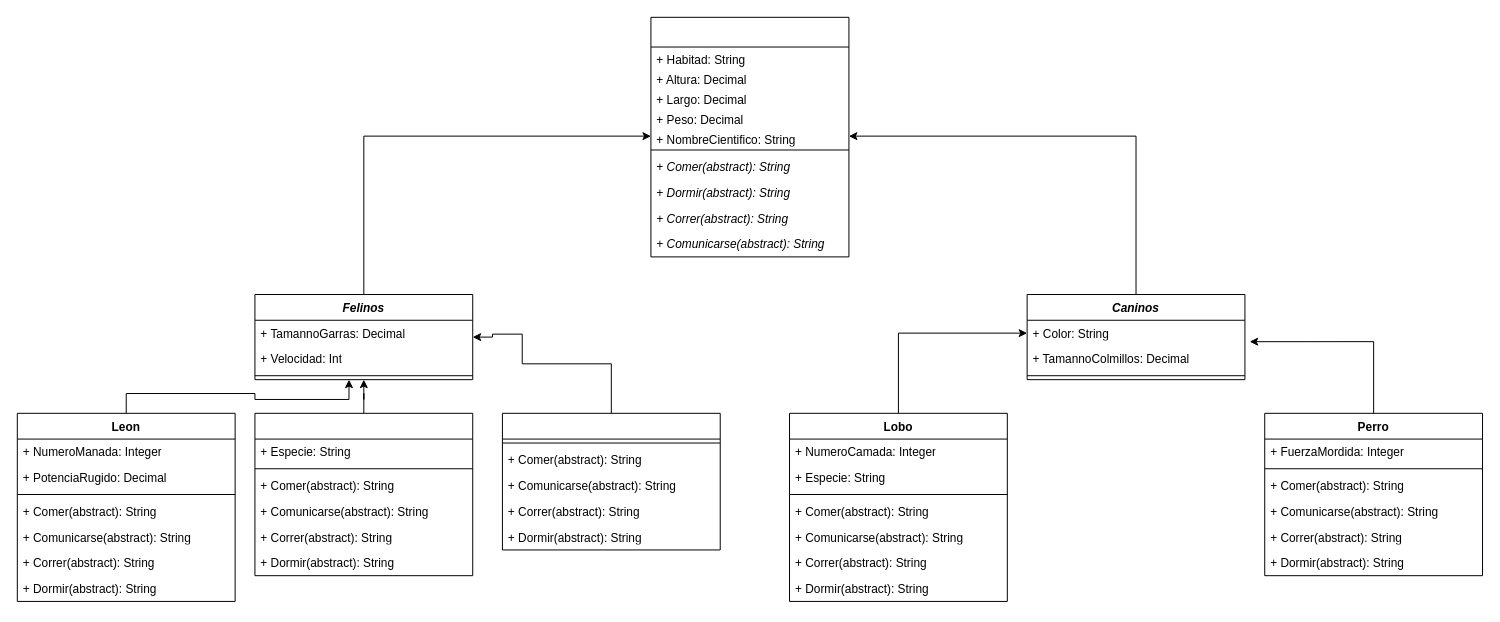
The diagram is 1500 pixels wide and 622 high, and some of its shapes have lost their labels. The shapes that lost their labels are listed below. From the top down, each one's box as (x1, y1, x2, y2) in pixels, then its label:
(650, 16, 849, 257): Mamiferos
(254, 412, 473, 576): Tigre
(501, 412, 720, 550): Guepardo
